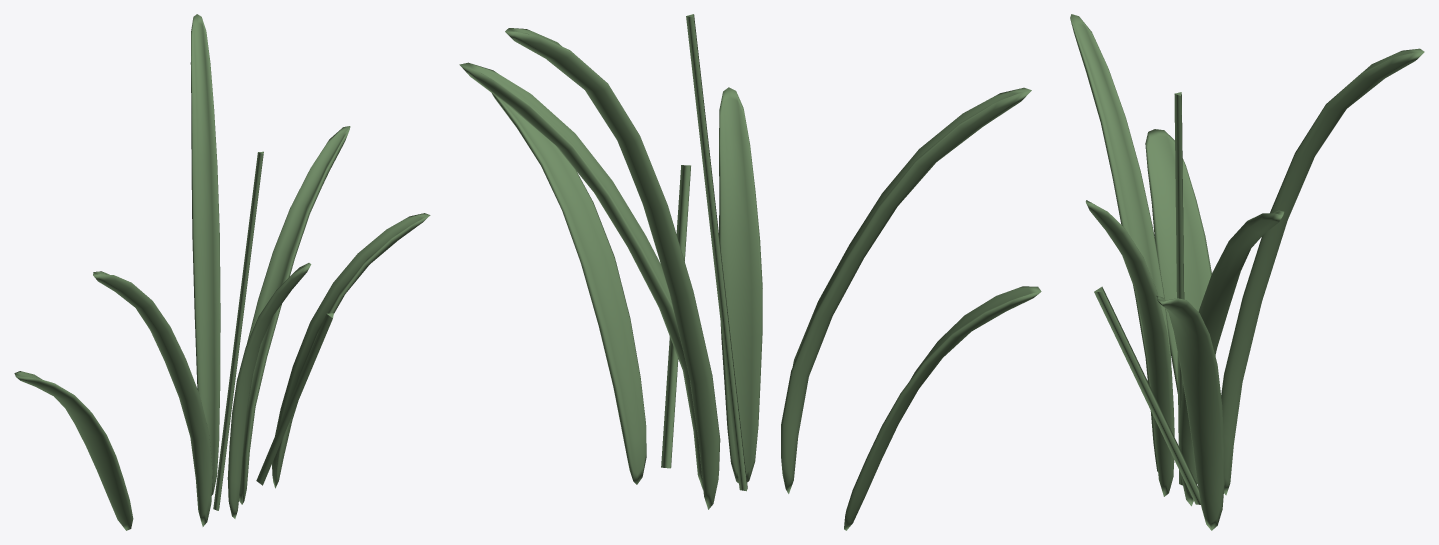
The model's file is oneGrass.gltf.
3 renders of one model, left to right at view 1: azimuth 30°, elevation 25°; view 2: azimuth 150°, elevation 25°; view 3: azimuth 270°, elevation 25°, orthographic. The views are drawn at different scales.
Visible parts, largest first — view 1: Cube 2, Cube 4, Cube, Cube 6, Cube 5, Cube 3, Cylinder 3, Cylinder 5; view 2: Cube 3, Cube 2, Cube 6, Cube, Cube 4, Cube 5, Cylinder 3, Cylinder 5; view 3: Cube 2, Cube 6, Cube, Cube 5, Cube 3, Cube 4, Cylinder 5, Cylinder 3.
Boxes of the visible parts, bbox=[...] form: Cube 2: bbox=[190, 14, 220, 495]; Cube 4: bbox=[239, 126, 350, 504]; Cube: bbox=[93, 271, 212, 526]; Cube 6: bbox=[272, 213, 430, 488]; Cube 5: bbox=[14, 371, 133, 530]; Cube 3: bbox=[227, 263, 311, 518]; Cylinder 3: bbox=[213, 151, 263, 510]; Cylinder 5: bbox=[256, 313, 333, 485]; Cube 3: bbox=[719, 87, 762, 483]; Cube 2: bbox=[505, 28, 720, 509]; Cube 6: bbox=[492, 93, 646, 484]; Cube: bbox=[781, 87, 1031, 493]; Cube 4: bbox=[459, 62, 703, 489]; Cube 5: bbox=[844, 286, 1041, 530]; Cylinder 3: bbox=[686, 14, 747, 491]; Cylinder 5: bbox=[661, 165, 690, 468]; Cube 2: bbox=[1221, 48, 1424, 495]; Cube 6: bbox=[1156, 296, 1224, 530]; Cube: bbox=[1070, 14, 1171, 471]; Cube 5: bbox=[1145, 129, 1215, 393]; Cube 3: bbox=[1085, 200, 1174, 496]; Cube 4: bbox=[1179, 210, 1284, 506]; Cylinder 5: bbox=[1094, 286, 1200, 504]; Cylinder 3: bbox=[1174, 92, 1184, 485].
Bounding box in the file's own units: 0.3369 × 0.3145 × 0.2078.
